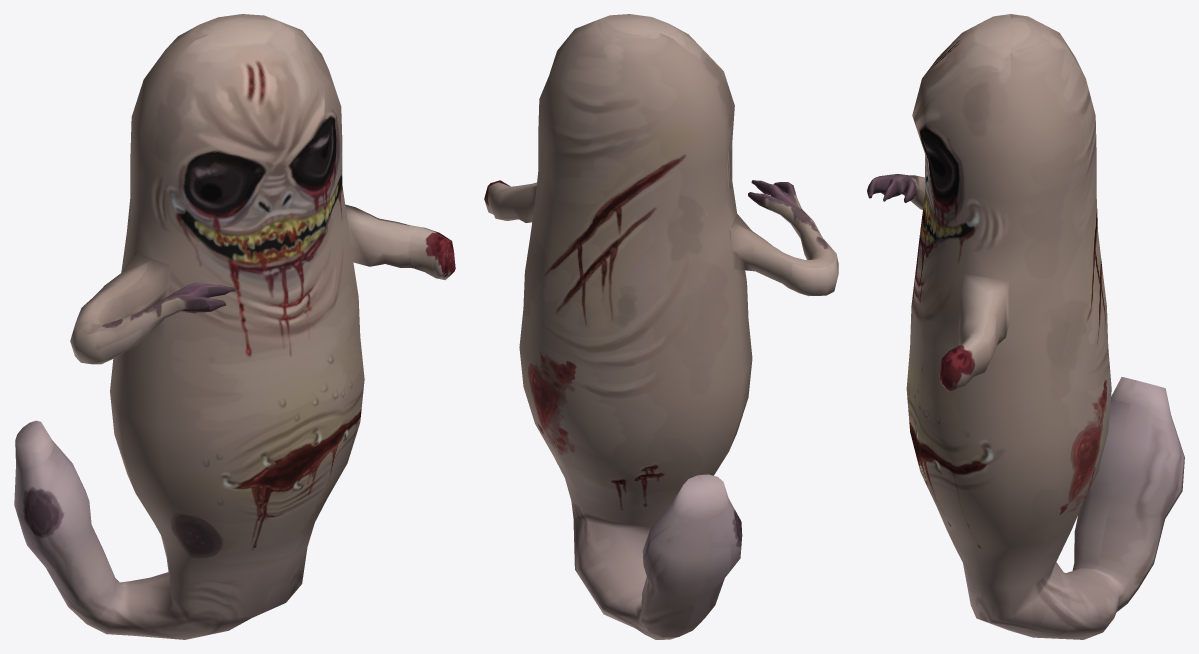
Rendered from Ghost01.fbx.
3 renders of one model, left to right at view 1: azimuth 30°, elevation 25°; view 2: azimuth 150°, elevation 25°; view 3: azimuth 270°, elevation 25°, orthographic. The views are drawn at different scales.
Parts seen in each view (by area): view 1: Ghost01; view 2: Ghost01; view 3: Ghost01.
Part boxes in pixels (left/top/right/bottom): Ghost01: left=14, top=14, right=455, bottom=639; Ghost01: left=484, top=14, right=838, bottom=639; Ghost01: left=867, top=14, right=1184, bottom=639.
Bounding box in the file's own units: 6.47 × 10.07 × 4.66.
